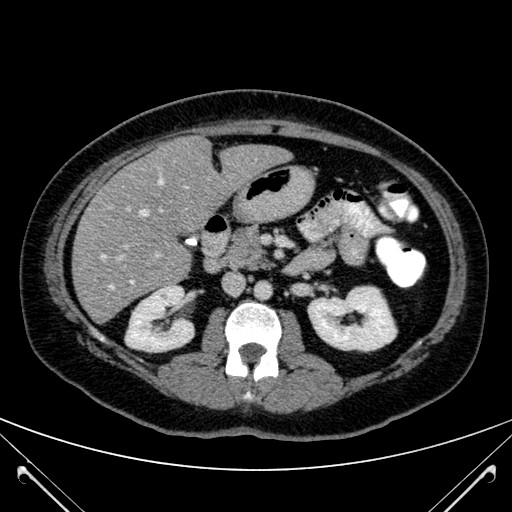clipe: (183, 237, 199, 248)
